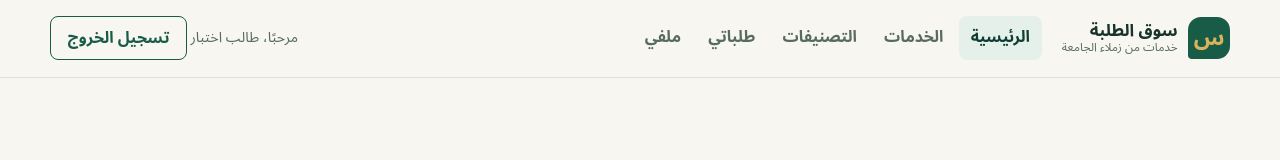
وصول نماذج الحساب والتنقل › يعلن فشل تسجيل الخروج ولا يخفيه عن المستخدم
Click the button "تسجيل الخروج": x=119, y=38 [50, 16, 187, 60]
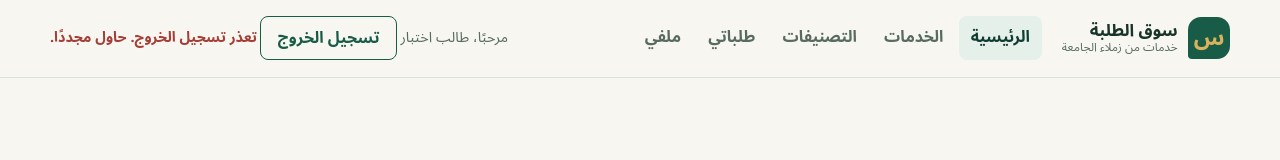
Now the message reads "تعذر تسجيل الخروج. حاول مجددًا.", box [50, 22, 257, 53]
